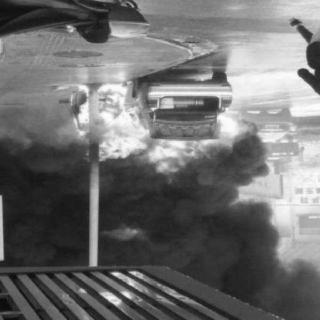Fire: (74, 79, 253, 179)
Smoke: (11, 153, 301, 304)
